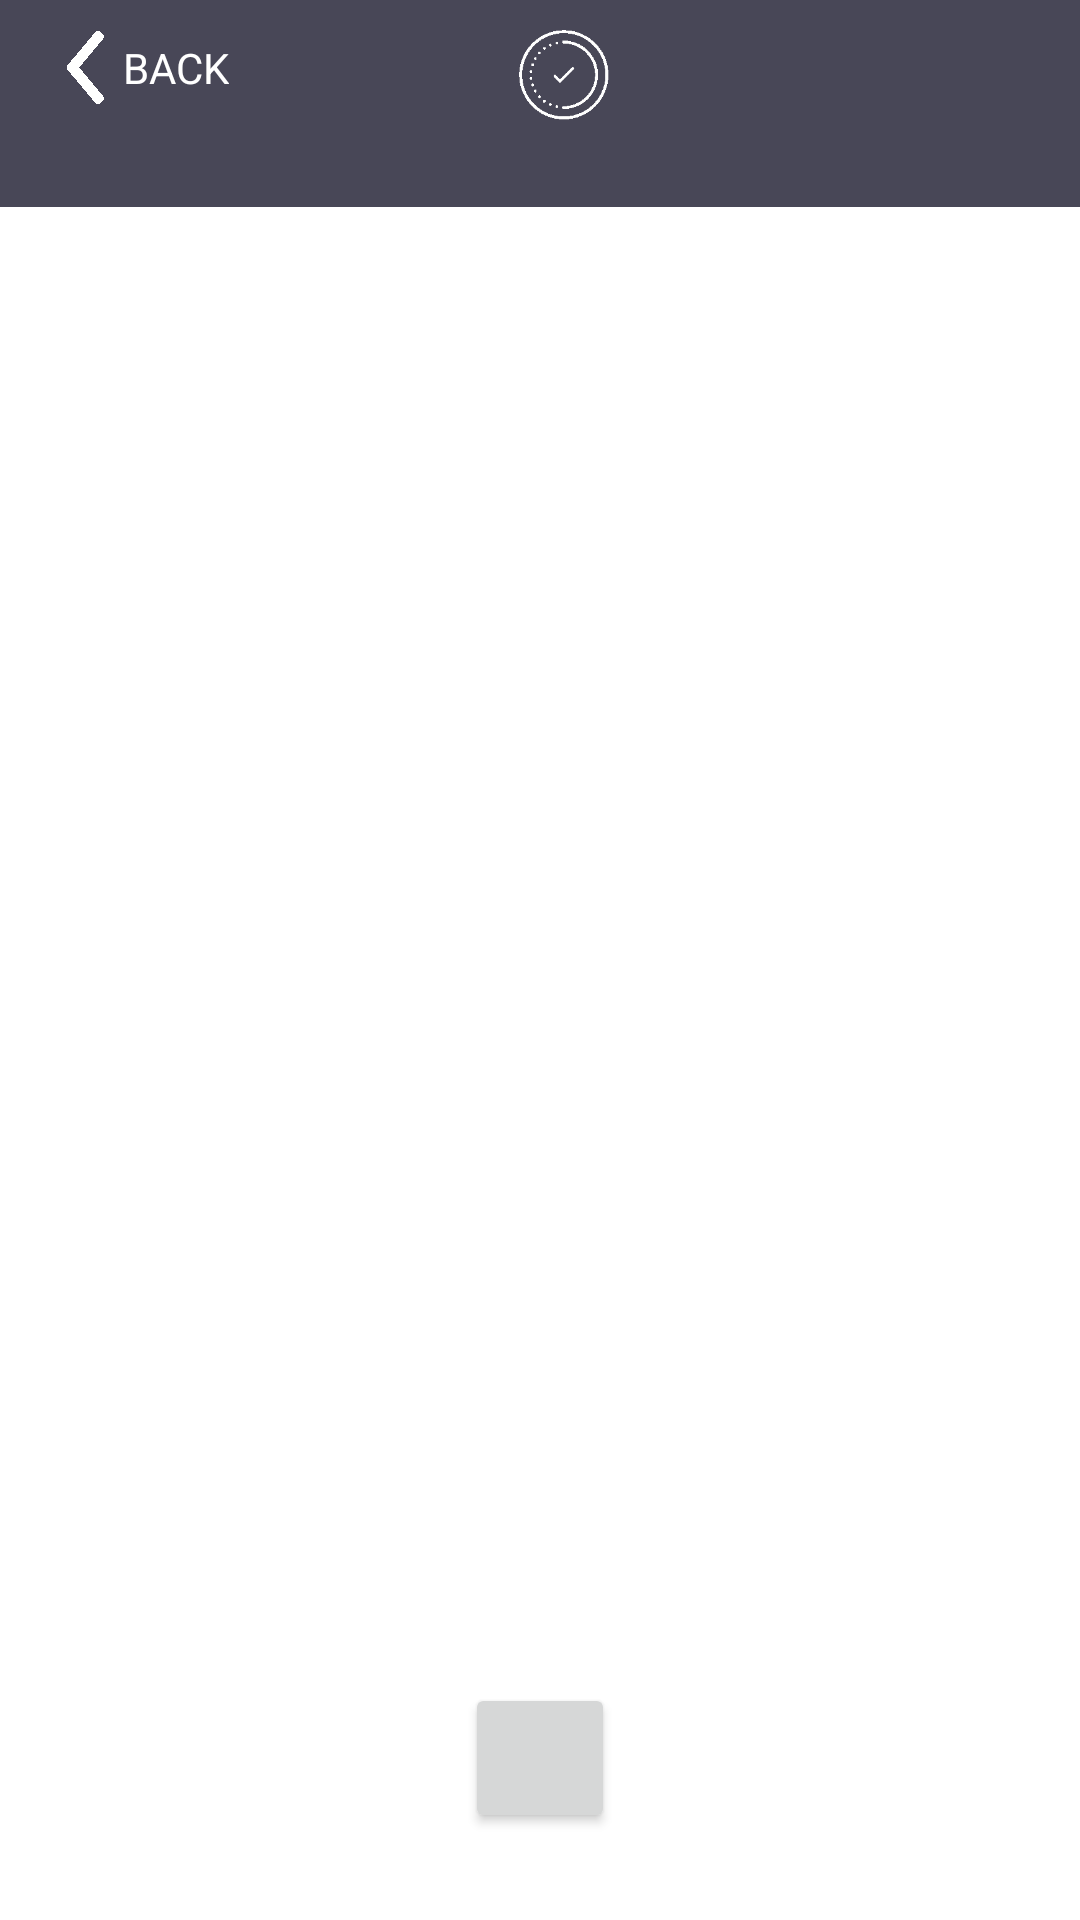

Where icons sit on this 1080 × 1920 app screen, as (x1, y1, x2, y2):
approbation: (519, 30, 609, 120)
left arrow: (67, 31, 104, 104)
